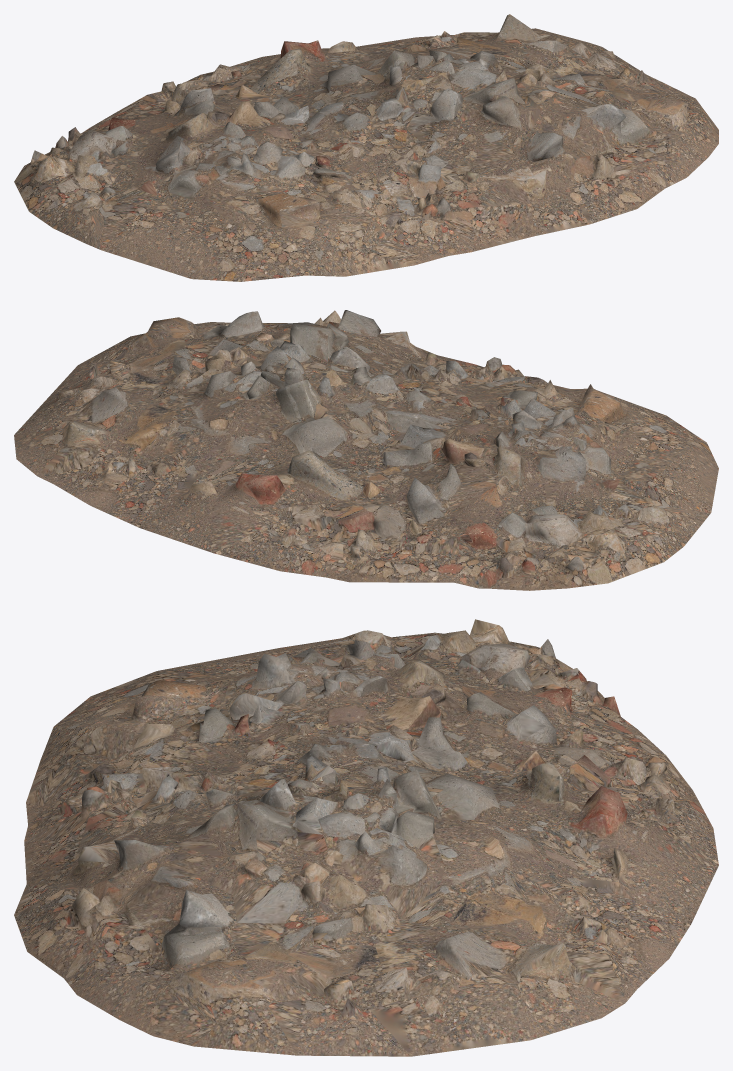
Rendered from DebrisSolo2.glb.
3 views of the same model, one above another, from view 1: azimuth 30°, elevation 25°; view 2: azimuth 150°, elevation 25°; view 3: azimuth 270°, elevation 25° (orthographic). The views are drawn at different scales.
Visible parts, largest first — view 1: Aset_cement_rubble_S_rkCty_LOD4; view 2: Aset_cement_rubble_S_rkCty_LOD4; view 3: Aset_cement_rubble_S_rkCty_LOD4.
Boxes of the visible parts, bbox=[...] form: Aset_cement_rubble_S_rkCty_LOD4: bbox=[14, 14, 718, 281]; Aset_cement_rubble_S_rkCty_LOD4: bbox=[14, 310, 718, 590]; Aset_cement_rubble_S_rkCty_LOD4: bbox=[14, 619, 718, 1056].
Size of the model in its own units: 1.31 by 0.1739 by 0.9369.
1 material, 1 textured.
